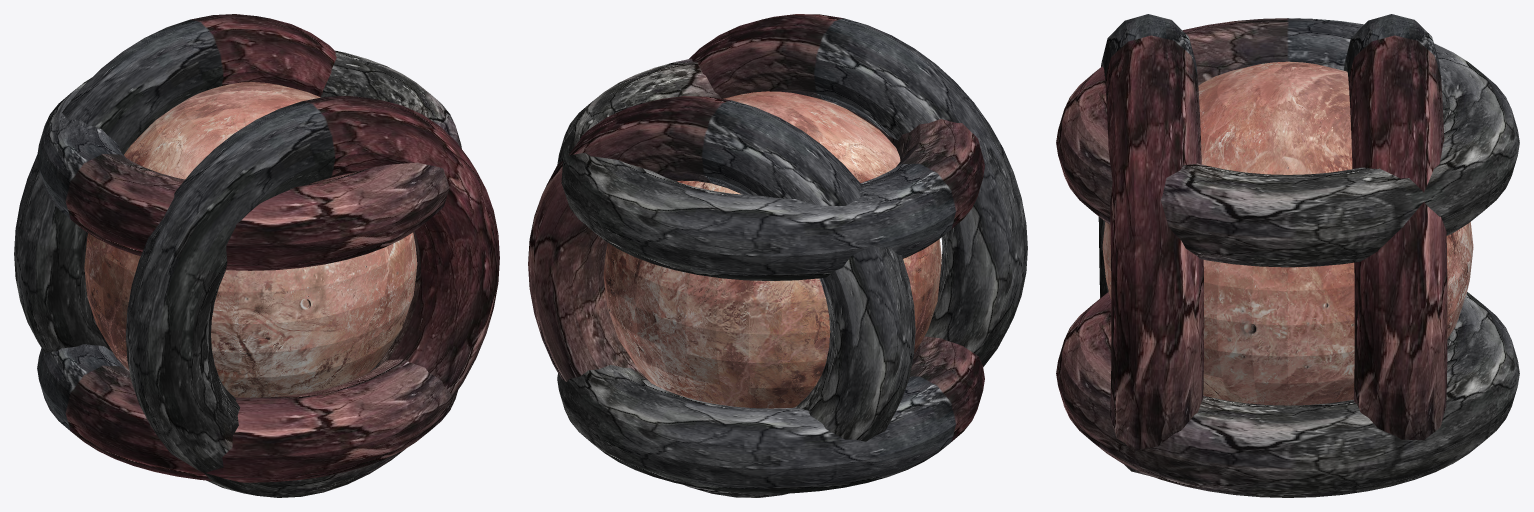
Rendered from Dire.fbx.
The picture shows the model from 3 angles, left to right: view 1: azimuth 30°, elevation 25°; view 2: azimuth 150°, elevation 25°; view 3: azimuth 270°, elevation 25°; orthographic projection. The views are drawn at different scales.
Parts seen in each view (by area): view 1: Torus.001, Sphere, Torus.003, Torus.002, Torus; view 2: Torus.002, Torus.003, Sphere, Torus.001, Torus; view 3: Torus.003, Sphere, Torus, Torus.001, Torus.002.
Part boxes in pixels (x1,y1,x2,y2): Torus.001: (125,95,499,497); Sphere: (84,82,417,397); Torus.003: (37,50,461,270); Torus.002: (14,14,336,371); Torus: (37,344,457,482); Torus.002: (528,96,915,497); Torus.003: (557,58,984,280); Sphere: (603,91,941,408); Torus.001: (689,14,1027,366); Torus: (557,336,984,493); Torus.003: (1056,18,1519,267); Sphere: (1102,61,1473,405); Torus: (1056,292,1519,497); Torus.001: (1098,14,1204,476); Torus.002: (1344,14,1447,440).
Size of the model in its own units: 1250 by 1250 by 1250.
Materials: 2 (2 with a texture image).
